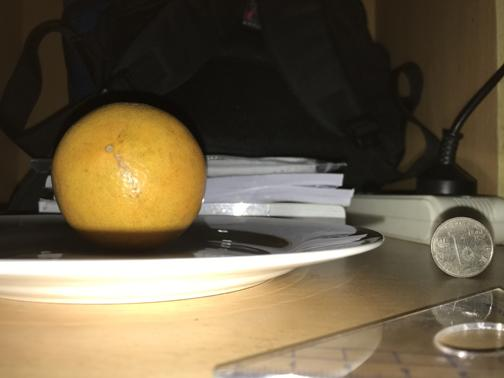coin: (428, 215, 494, 276)
orange: (53, 106, 209, 249)
